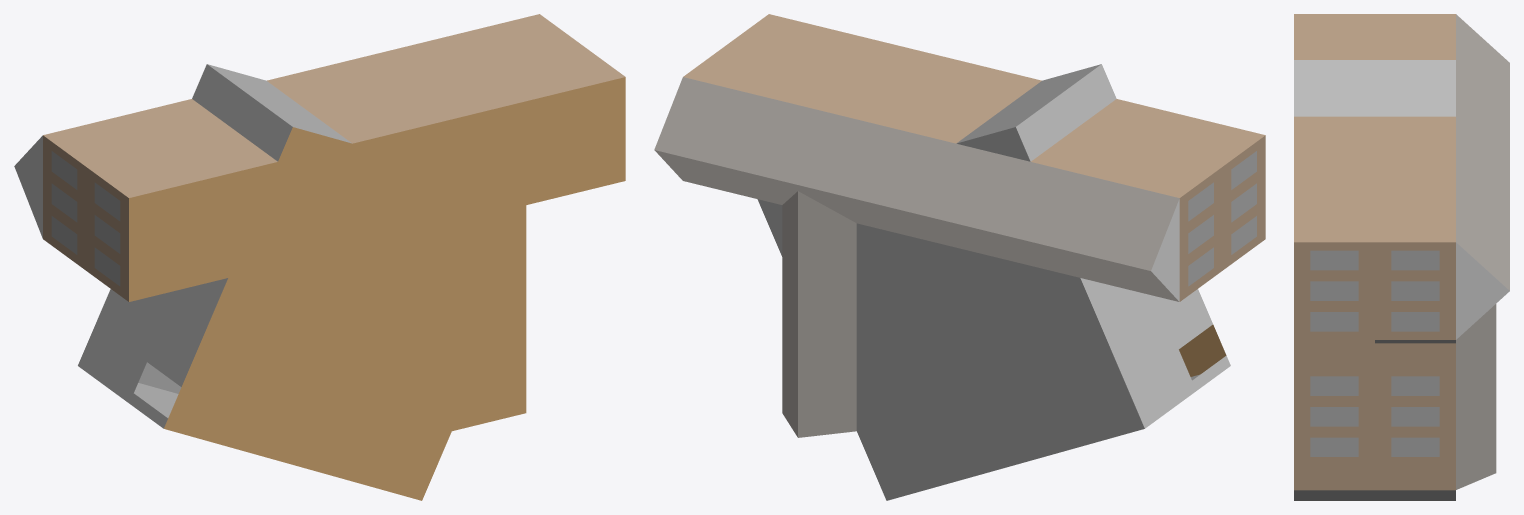
Rendered from Library.fbx.
3 views of the same model, side by side, from view 1: azimuth 30°, elevation 25°; view 2: azimuth 150°, elevation 25°; view 3: azimuth 270°, elevation 25° (orthographic). The views are drawn at different scales.
Visible parts, largest first — view 1: imagetostl_mesh121, imagetostl_mesh12, imagetostl_mesh42, imagetostl_mesh102, imagetostl_mesh5, imagetostl_mesh8, imagetostl_mesh21, imagetostl_mesh64, imagetostl_mesh1, imagetostl_mesh28, imagetostl_mesh101, imagetostl_mesh2 (+13 smaller); view 2: imagetostl_mesh20, imagetostl_mesh116, imagetostl_mesh113, imagetostl_mesh115, imagetostl_mesh21, imagetostl_mesh5, imagetostl_mesh102, imagetostl_mesh42, imagetostl_mesh64, imagetostl_mesh112, imagetostl_mesh8, imagetostl_mesh28 (+15 smaller); view 3: imagetostl_mesh116, imagetostl_mesh13, imagetostl_mesh94, imagetostl_mesh112, imagetostl_mesh42, imagetostl_mesh4, imagetostl_mesh97, imagetostl_mesh16, imagetostl_mesh6, imagetostl_mesh64, imagetostl_mesh102, imagetostl_mesh5 (+23 smaller).
Boxes of the visible parts, left/top/right/bottom form: imagetostl_mesh121: left=129, top=77, right=625, bottom=500; imagetostl_mesh12: left=452, top=257, right=526, bottom=431; imagetostl_mesh42: left=267, top=44, right=457, bottom=111; imagetostl_mesh102: left=43, top=99, right=234, bottom=166; imagetostl_mesh5: left=86, top=130, right=277, bottom=197; imagetostl_mesh8: left=121, top=278, right=227, bottom=428; imagetostl_mesh21: left=78, top=289, right=164, bottom=396; imagetostl_mesh64: left=310, top=88, right=451, bottom=143; imagetostl_mesh1: left=508, top=45, right=625, bottom=94; imagetostl_mesh28: left=465, top=14, right=582, bottom=63; imagetostl_mesh101: left=43, top=135, right=85, bottom=270; imagetostl_mesh2: left=86, top=167, right=128, bottom=301; imagetostl_mesh20: left=856, top=223, right=1144, bottom=500; imagetostl_mesh116: left=654, top=77, right=1179, bottom=270; imagetostl_mesh113: left=798, top=191, right=856, bottom=437; imagetostl_mesh115: left=654, top=150, right=1178, bottom=301; imagetostl_mesh21: left=1080, top=278, right=1187, bottom=428; imagetostl_mesh5: left=1074, top=99, right=1265, bottom=166; imagetostl_mesh102: left=1031, top=130, right=1222, bottom=197; imagetostl_mesh42: left=807, top=76, right=998, bottom=143; imagetostl_mesh64: left=900, top=56, right=1041, bottom=111; imagetostl_mesh112: left=782, top=191, right=797, bottom=437; imagetostl_mesh8: left=1143, top=289, right=1230, bottom=396; imagetostl_mesh28: left=683, top=45, right=799, bottom=94; imagetostl_mesh116: left=1456, top=14, right=1509, bottom=290; imagetostl_mesh13: left=1294, top=343, right=1374, bottom=490; imagetostl_mesh94: left=1375, top=343, right=1455, bottom=490; imagetostl_mesh112: left=1456, top=304, right=1496, bottom=489; imagetostl_mesh42: left=1375, top=116, right=1455, bottom=184; imagetostl_mesh4: left=1294, top=242, right=1374, bottom=339; imagetostl_mesh97: left=1375, top=242, right=1455, bottom=339; imagetostl_mesh16: left=1375, top=60, right=1455, bottom=116; imagetostl_mesh6: left=1294, top=60, right=1374, bottom=116; imagetostl_mesh64: left=1294, top=116, right=1374, bottom=162; imagetostl_mesh102: left=1375, top=14, right=1455, bottom=59; imagetostl_mesh5: left=1294, top=14, right=1374, bottom=59.
Bounding box in the file's own units: 120000 × 93600 × 48000.
